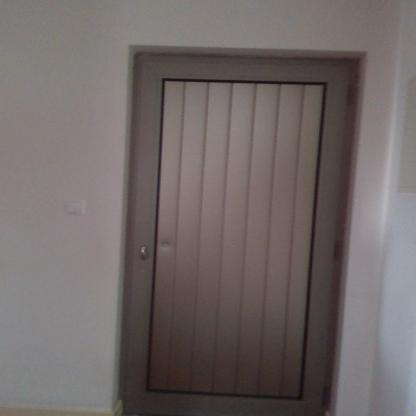closed: (109, 37, 379, 406)
